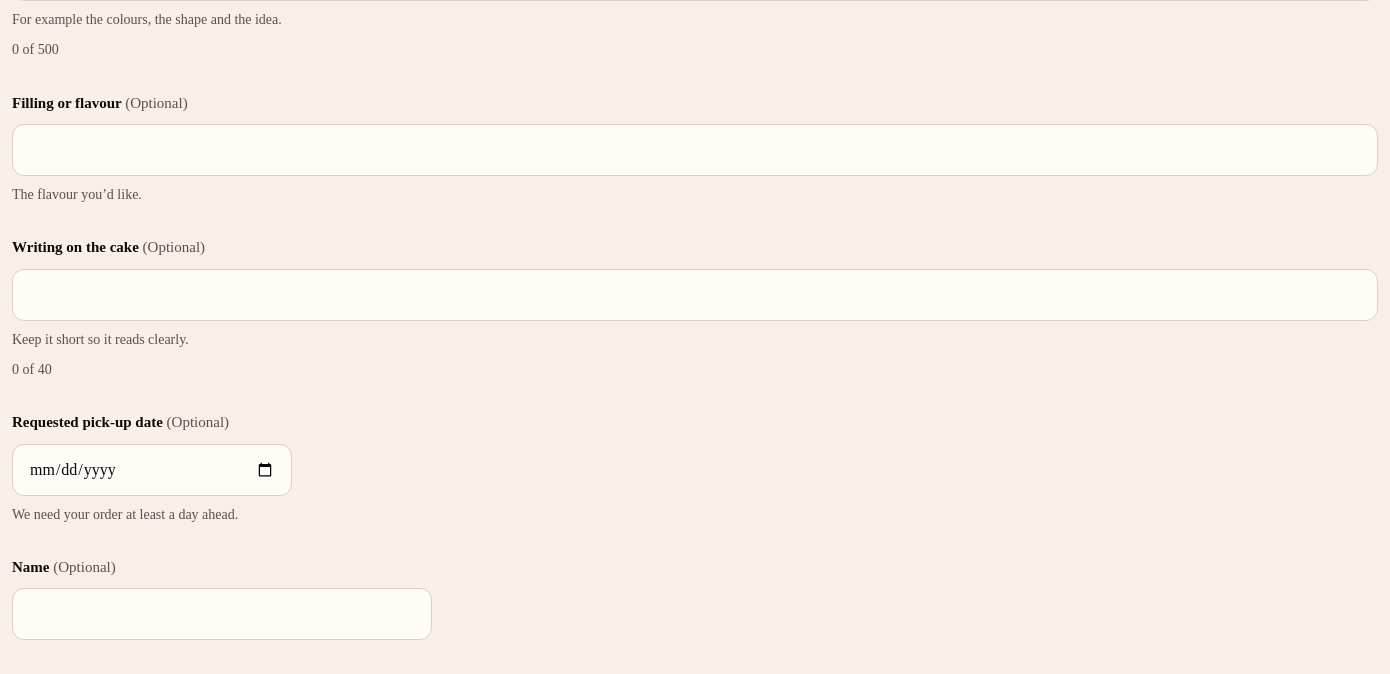
Test: CustomOrderForm › counts characters, not UTF-16 units
(page scrolled)
Type "🎂🎂 كل" into the field labelled "Writing on the cake (Optional)" at (695, 295), box [12,269,1378,321]
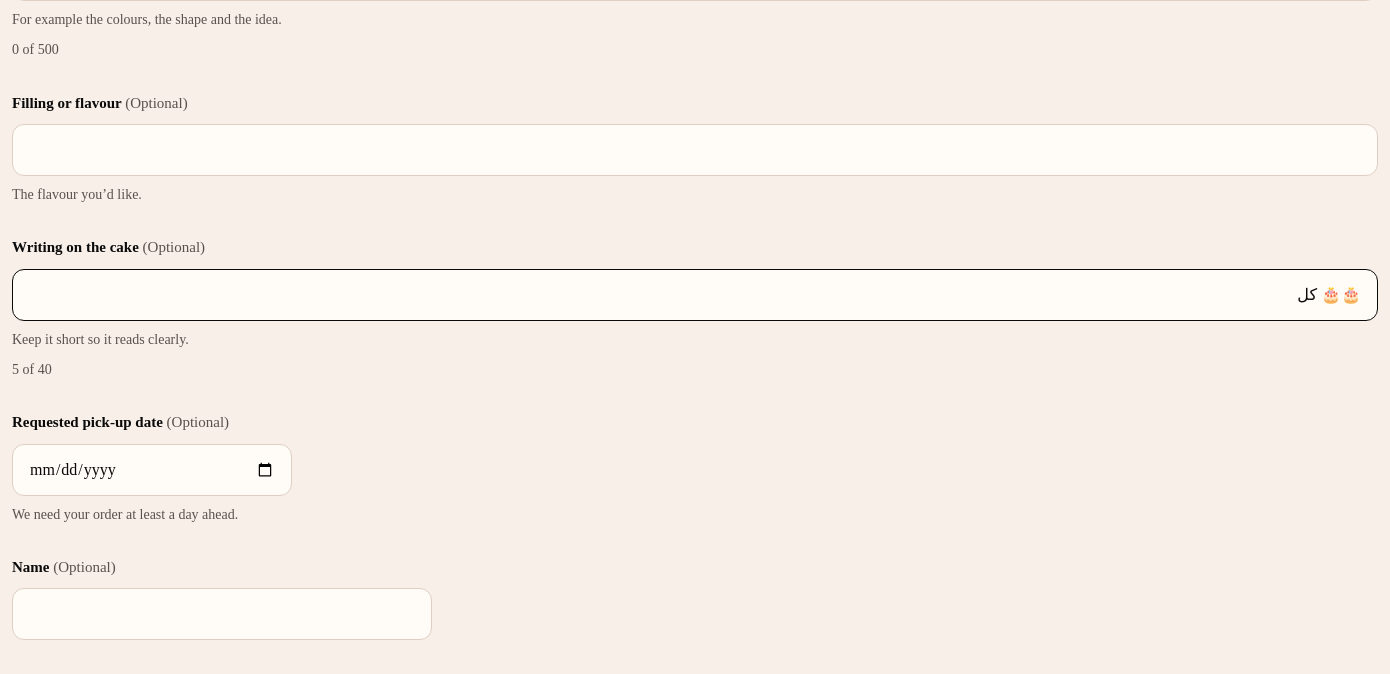
Check: the text "5 of 40" is shown, box [12,362,52,377]
